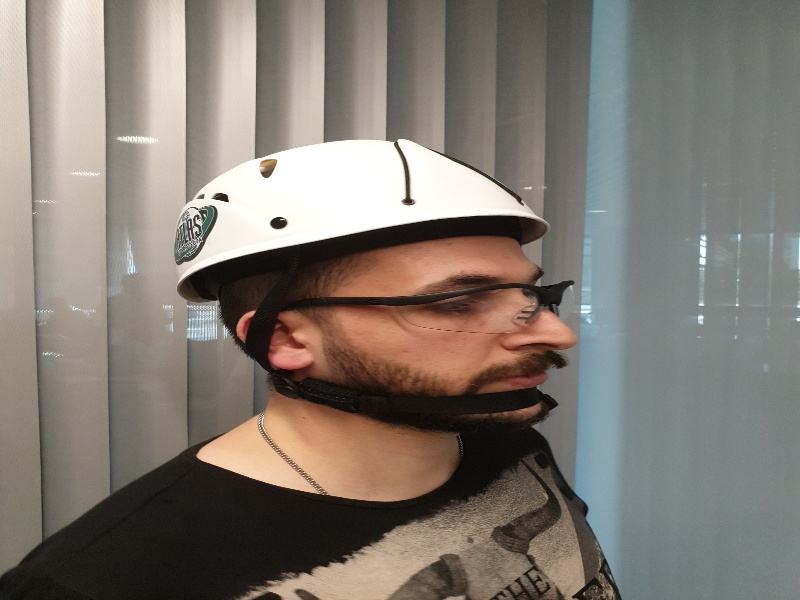Baret: (173, 139, 542, 273)
Gozluk: (278, 276, 579, 335)
